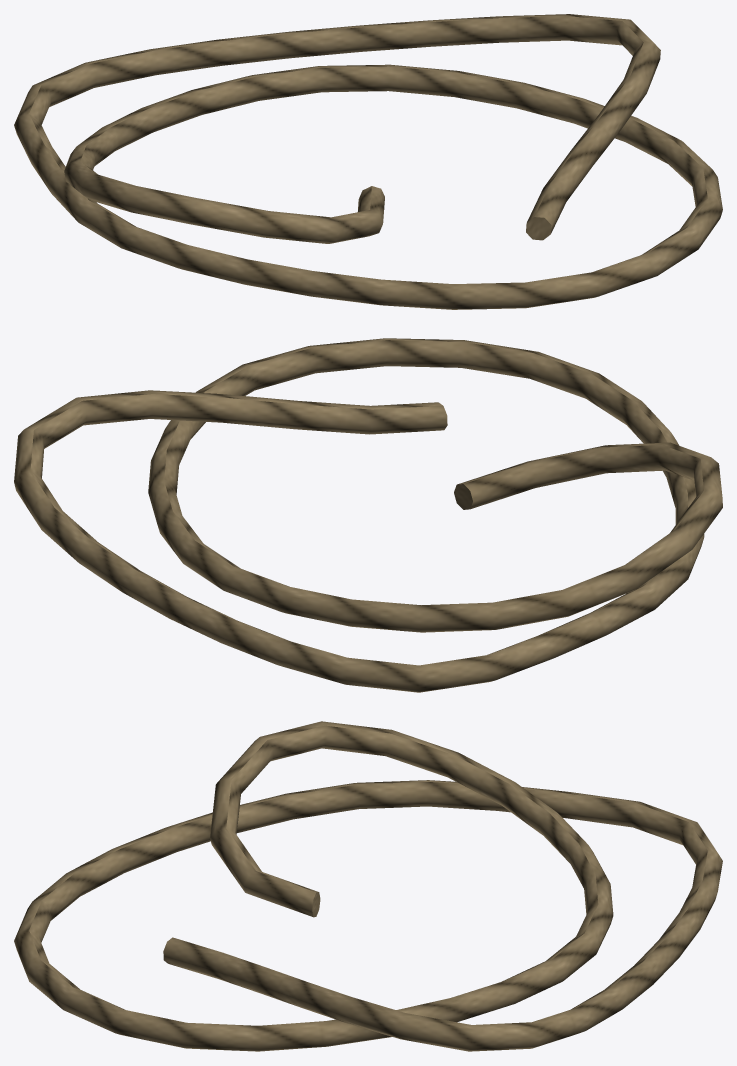
File: rope.fbx
The picture shows the model from 3 angles, top to bottom: view 1: azimuth 30°, elevation 25°; view 2: azimuth 150°, elevation 25°; view 3: azimuth 270°, elevation 25°; orthographic projection. The views are drawn at different scales.
Visible parts, largest first — view 1: rope; view 2: rope; view 3: rope.
Part boxes in pixels (x1,y1,x2,y2): rope: (14,14,722,309); rope: (14,338,722,692); rope: (14,721,722,1051).
Bounding box in the file's own units: 44.17 × 5.62 × 45.48.
1 material, 1 textured.
